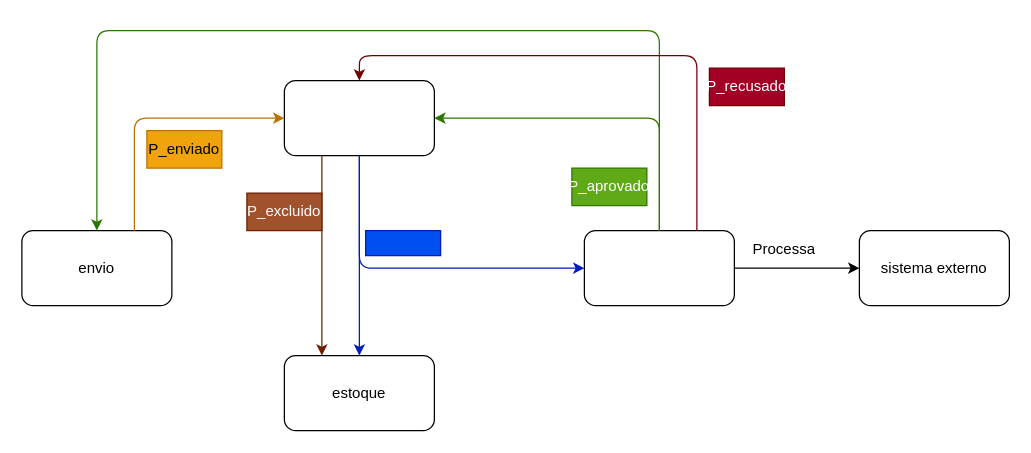
This 1031x453 diagram has some shape labels left out. The shapes that lost their labels are listed below. From the top down, each one's centre as x and y in pixels, then its label:
(x=358, y=117): principal
(x=402, y=242): P_criado
(x=658, y=267): pagamento
